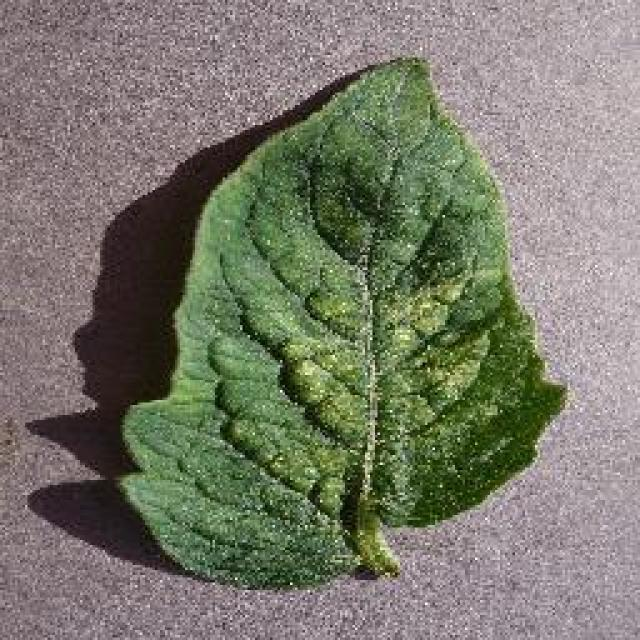Tomato mosaic virus leaf: (114, 48, 571, 590)
